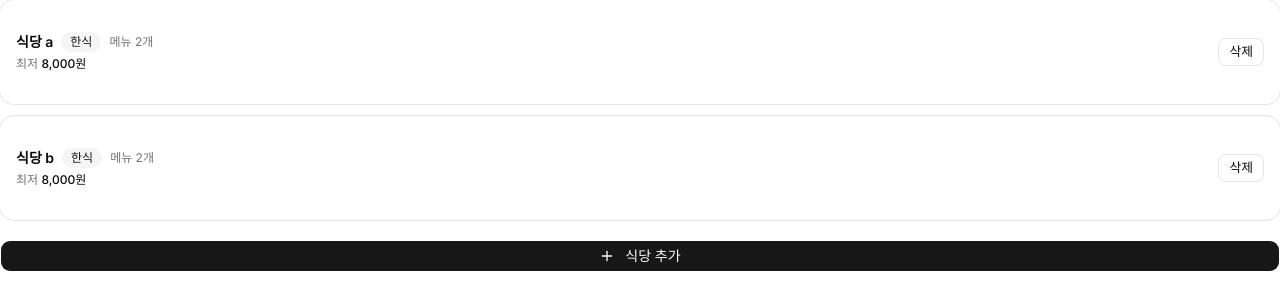
Test: RestaurantList › 삭제 트리거 → 해당 행 인라인 확인 상태로 전환
The image size is (1280, 288).
Expected: the text "식당 a" is shown, 16,32 -> 53,52
Click the button "삭제" in the row of "식당 a": click(1241, 52) 1218,38 -> 1264,66
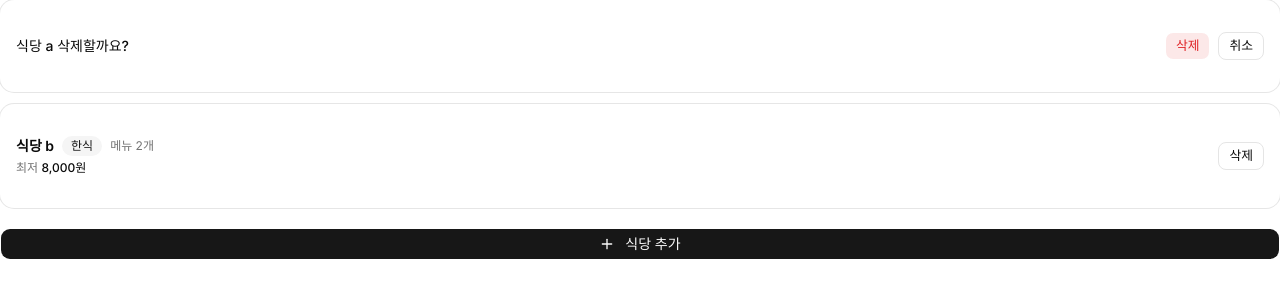
Result: the button with aria-label "삭제 확인" is shown at 1165,32 -> 1210,60
Result: the button "취소" is shown at 1218,32 -> 1264,60
